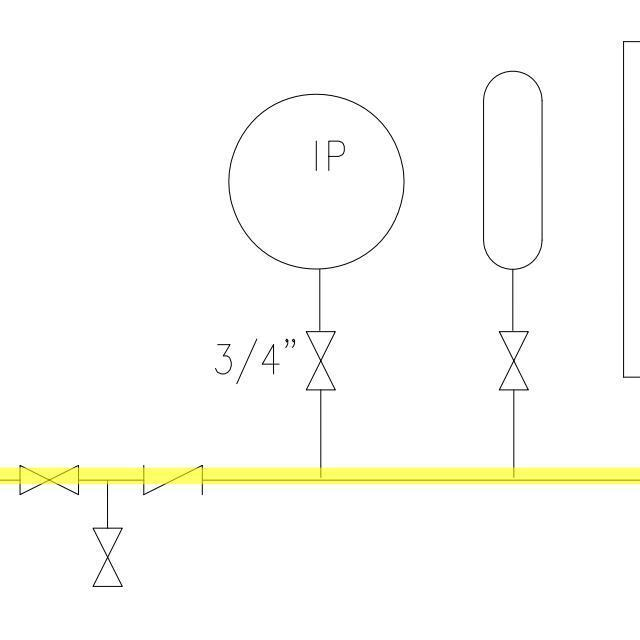GV: (493, 326, 533, 397), (302, 327, 339, 395), (15, 461, 82, 498), (91, 523, 126, 590)
